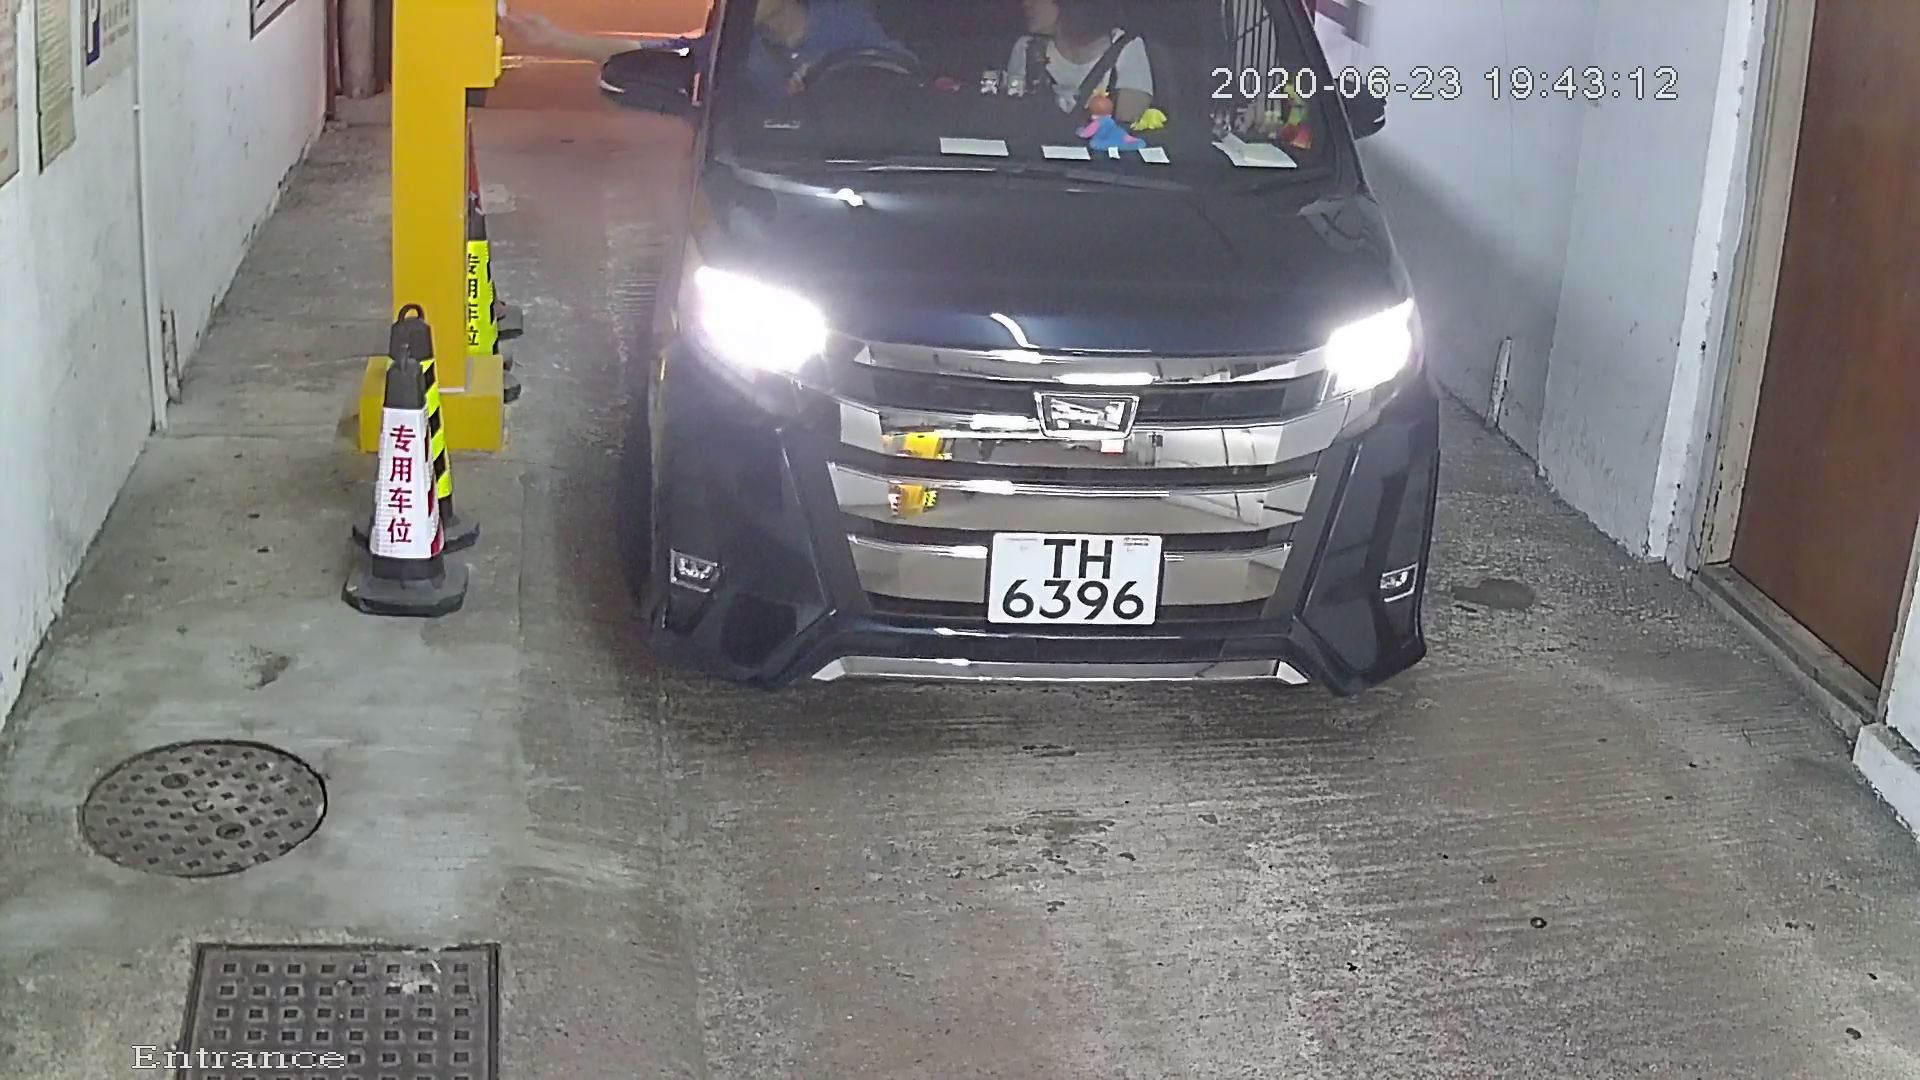privatecar: (582, 3, 1465, 740)
